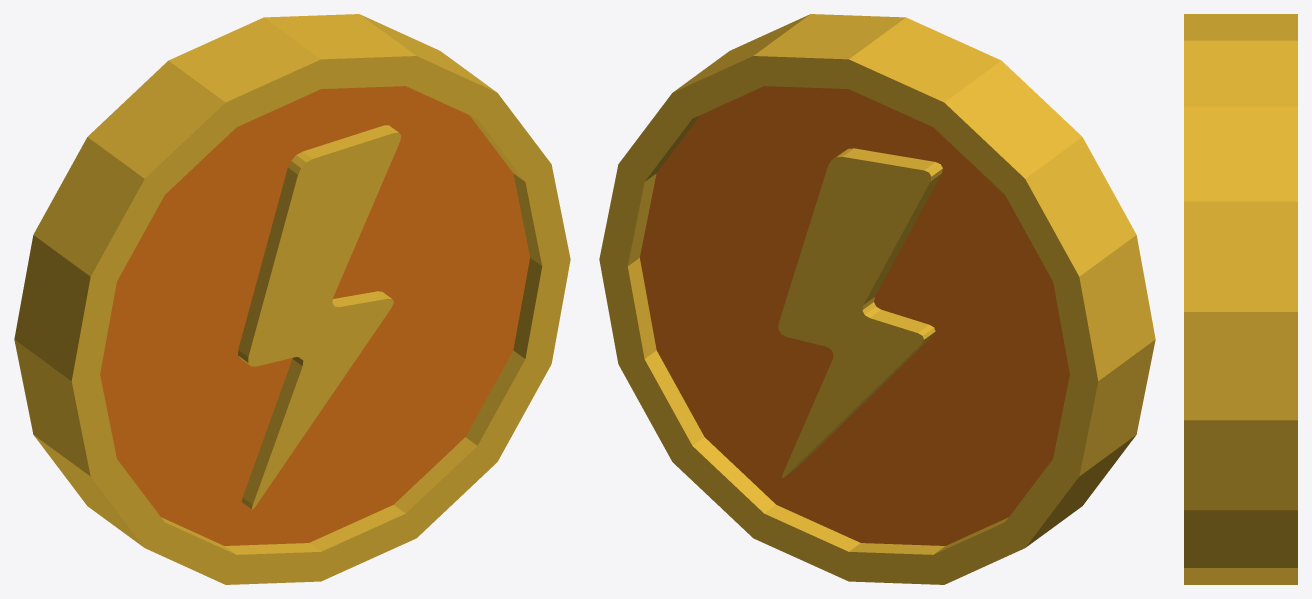
File: coin09.fbx
3 renders of one model, left to right at view 1: azimuth 30°, elevation 25°; view 2: azimuth 150°, elevation 25°; view 3: azimuth 270°, elevation 25°, orthographic.
Parts seen in each view (by area): view 1: Coin09; view 2: Coin09; view 3: Coin09.
Part boxes in pixels (box(x1,y1,x2,y2)): Coin09: box(14, 14, 570, 584); Coin09: box(599, 14, 1155, 584); Coin09: box(1184, 14, 1297, 584).
Size of the model in its own units: 84.1 by 84.1 by 16.74.
